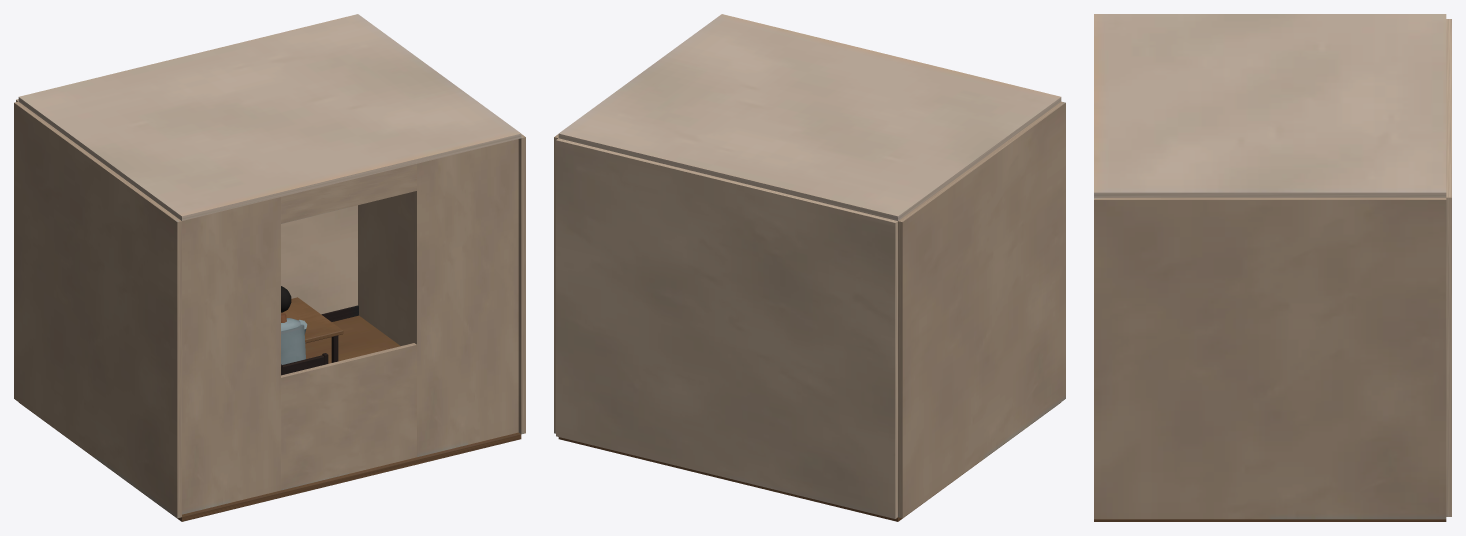
The model's file is window-room.glb.
The picture shows the model from 3 angles, left to right: view 1: azimuth 30°, elevation 25°; view 2: azimuth 150°, elevation 25°; view 3: azimuth 270°, elevation 25°; orthographic projection. The views are drawn at different scales.
Visible parts, largest first — view 1: room, figure; view 2: room; view 3: room.
Part boxes in pixels (left/top/right/bottom): room: left=14, top=14, right=525, bottom=521; figure: left=281, top=286, right=307, bottom=364; room: left=554, top=14, right=1065, bottom=521; room: left=1094, top=14, right=1451, bottom=521.
Bounding box in the file's own units: 3.08 × 2.58 × 2.54.
2 materials, 2 textured.
